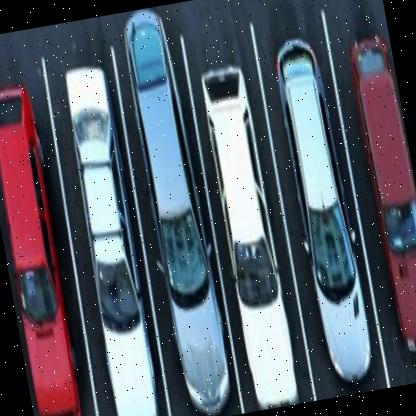Car: (259, 35, 366, 385), (52, 116, 160, 396), (126, 51, 222, 350), (196, 79, 288, 378), (0, 141, 84, 408), (345, 39, 416, 313)
